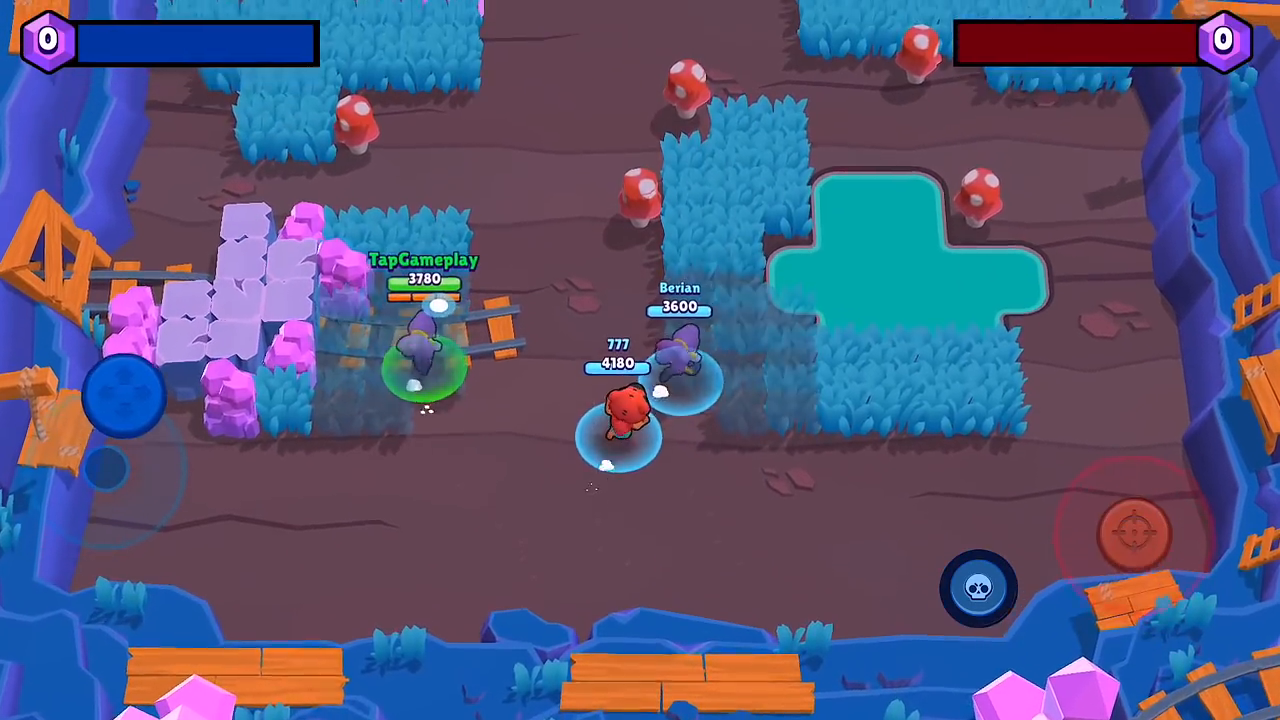move_stick: (87, 356, 164, 418)
